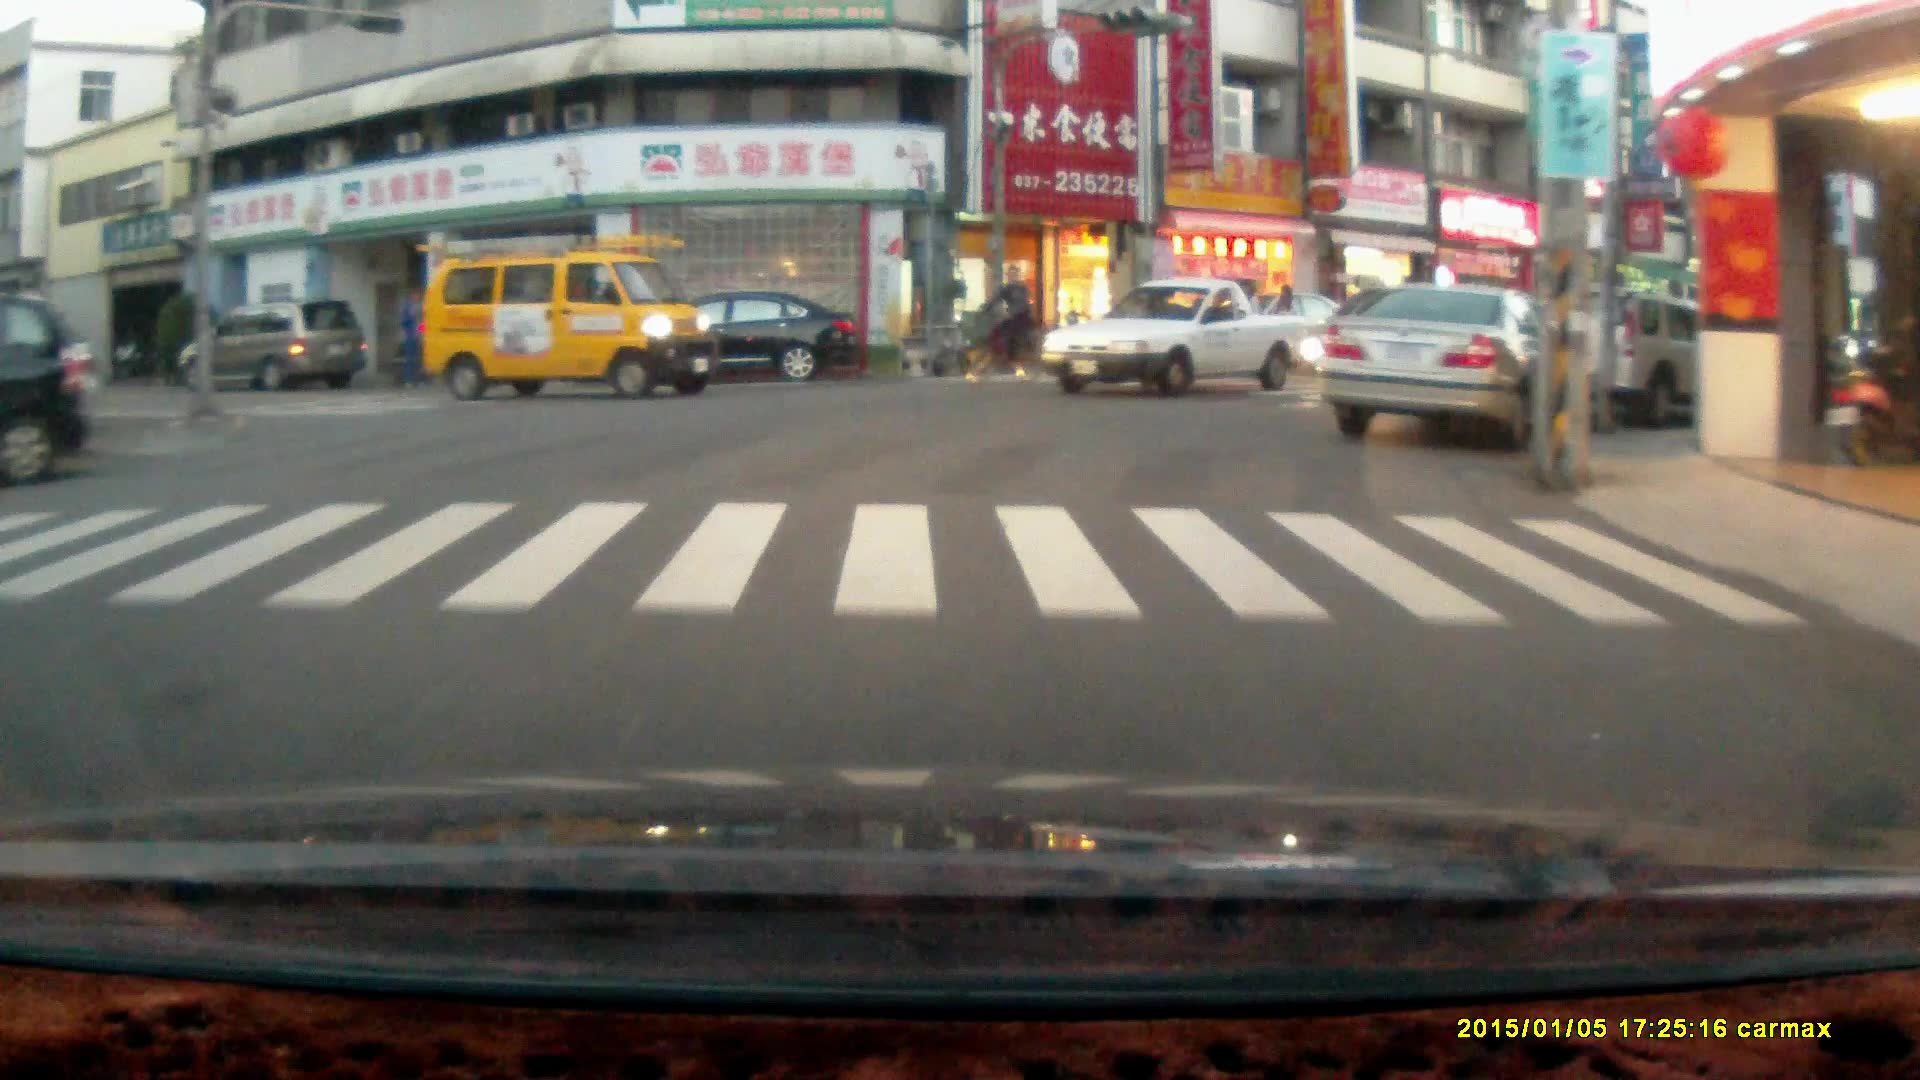pedestrian: (398, 284, 429, 383)
rider: (956, 260, 1043, 384)
vehicle: (421, 233, 714, 404), (1318, 282, 1570, 453), (1038, 272, 1316, 407), (1517, 286, 1767, 436), (621, 297, 861, 388), (178, 298, 369, 396), (5, 303, 90, 473)
